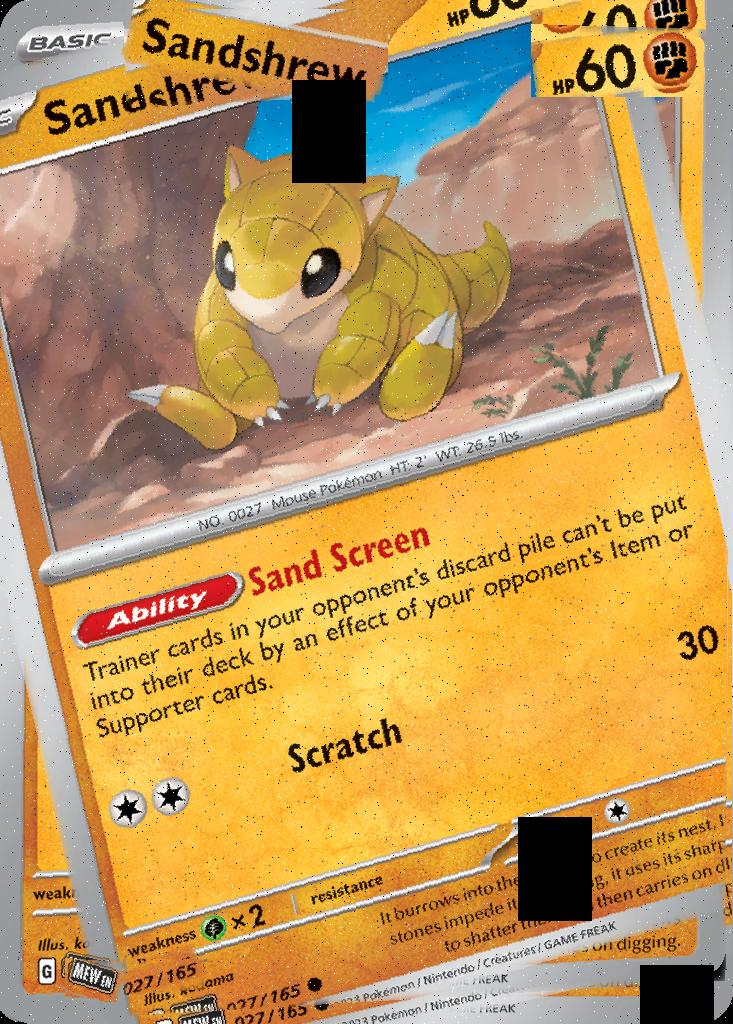card: (0, 0, 733, 1024)
hp: (531, 24, 706, 97)
name: (124, 9, 389, 108)
set num: (123, 960, 207, 996)
set symbol: (65, 958, 123, 1002)
